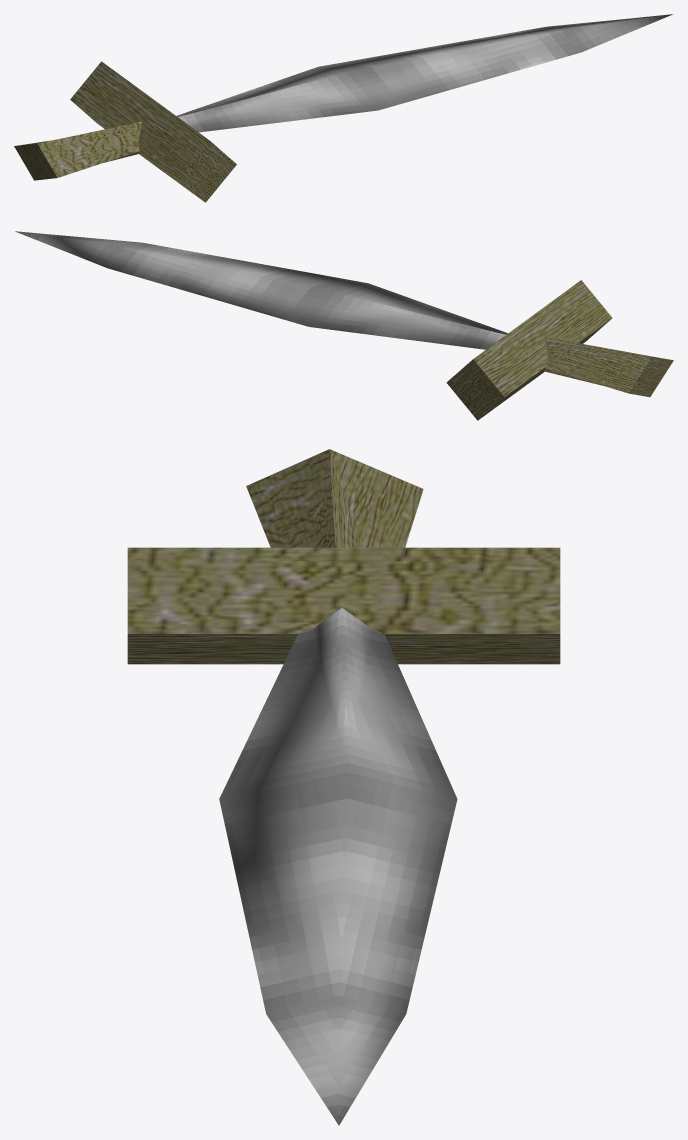
Rendered from sword.obj.
3 renders of one model, top to bottom at view 1: azimuth 30°, elevation 25°; view 2: azimuth 150°, elevation 25°; view 3: azimuth 270°, elevation 25°, orthographic. The views are drawn at different scales.
Parts seen in each view (by area): view 1: Duplicate02, Box01, Duplicate03; view 2: Duplicate02, Box01, Duplicate03; view 3: Duplicate02, Box01, Duplicate03.
Part boxes in pixels (bbox=[...]): Duplicate02: bbox=[176, 14, 672, 132]; Box01: bbox=[70, 61, 236, 202]; Duplicate03: bbox=[14, 121, 141, 180]; Duplicate02: bbox=[15, 231, 507, 349]; Box01: bbox=[446, 280, 612, 420]; Duplicate03: bbox=[543, 337, 673, 397]; Duplicate02: bbox=[219, 608, 457, 1125]; Box01: bbox=[127, 547, 560, 664]; Duplicate03: bbox=[246, 449, 423, 547].
Bounding box in the file's own units: 19.68 × 1.79 × 5.79.
